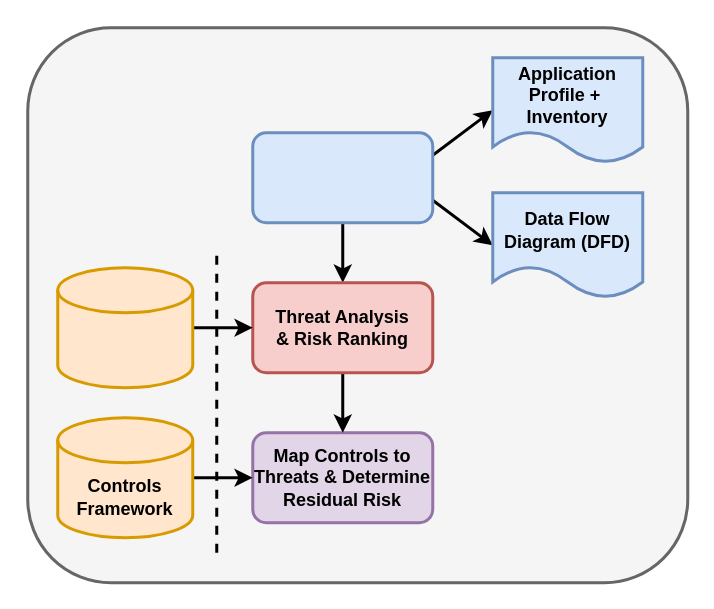
Some shapes in this 714 by 609 pixel diagram are drawn without their labels. Each missing label, with the box of its shape:
Decompose the Application: (250, 130, 434, 224)
Threat Classification Framework: (56, 266, 194, 388)
